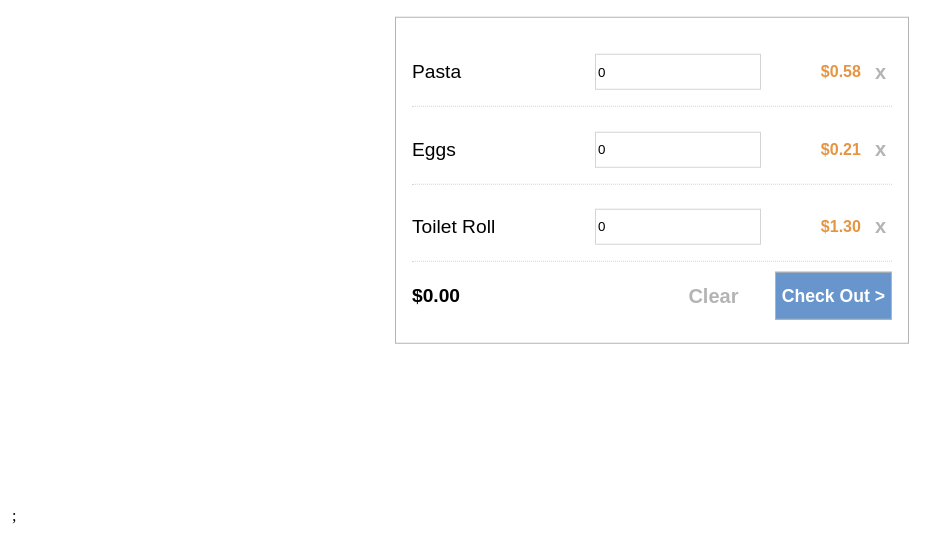
Test: <Cart /> › correctly updates when clear button clicked
Replace the text in the number field next to "$0.58" with "1" at [678, 72], box [595,54,761,90]
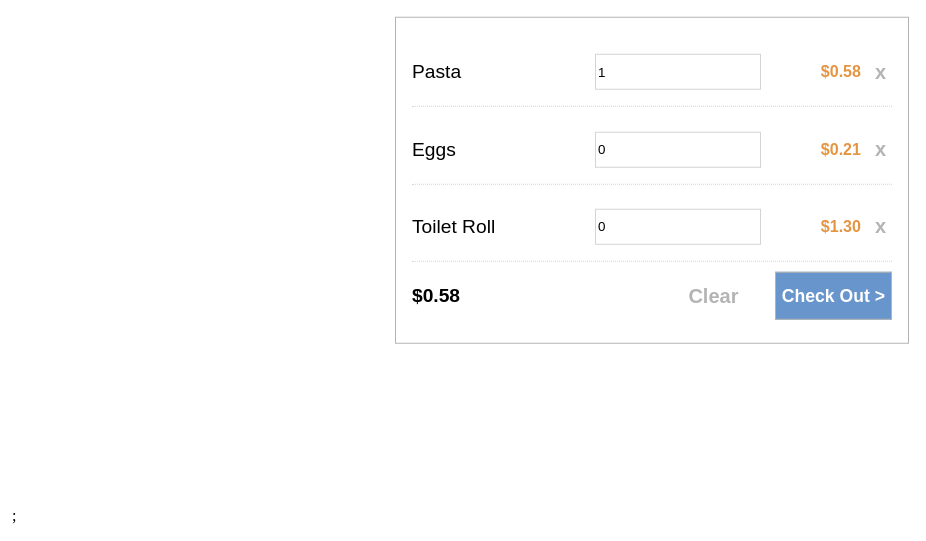
Replace the text in the number field next to "$0.21" with "1" at [678, 149], box [595,131,761,167]
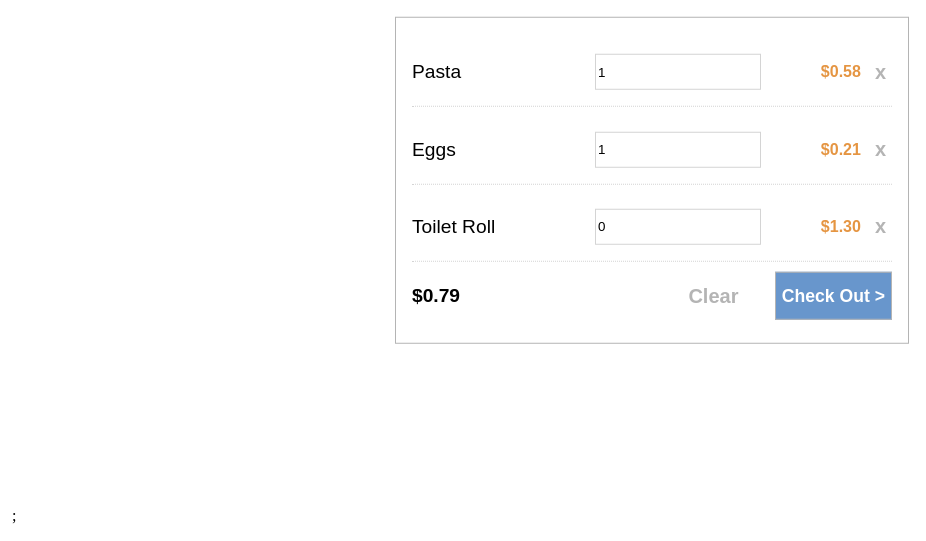
Replace the text in the number field next to "$1.30" with "1" at [678, 227], box [595,209,761,245]
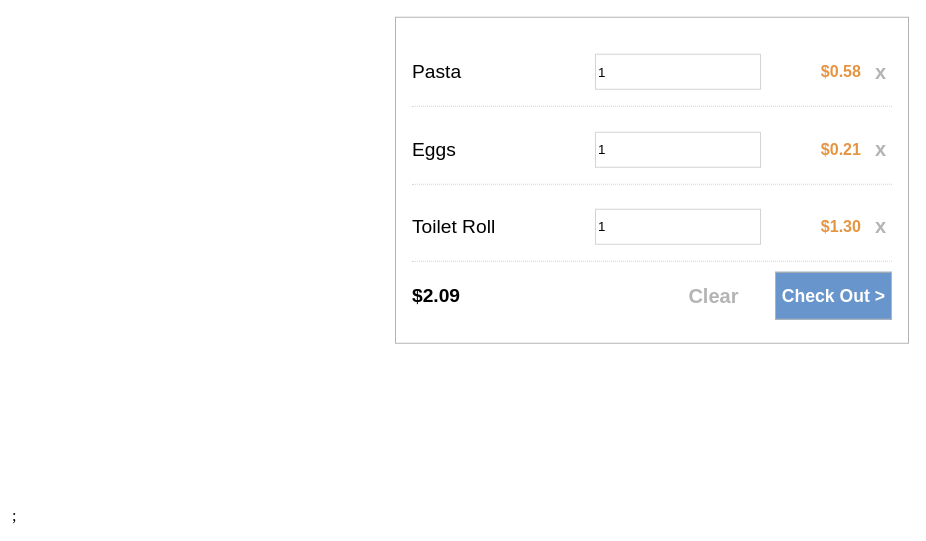
Result: the text with test id "cartTotal" reads "$2.09" at [412,285,460,306]
Click the button with test id "clearButton" at [713, 296], box [682,284,744,309]
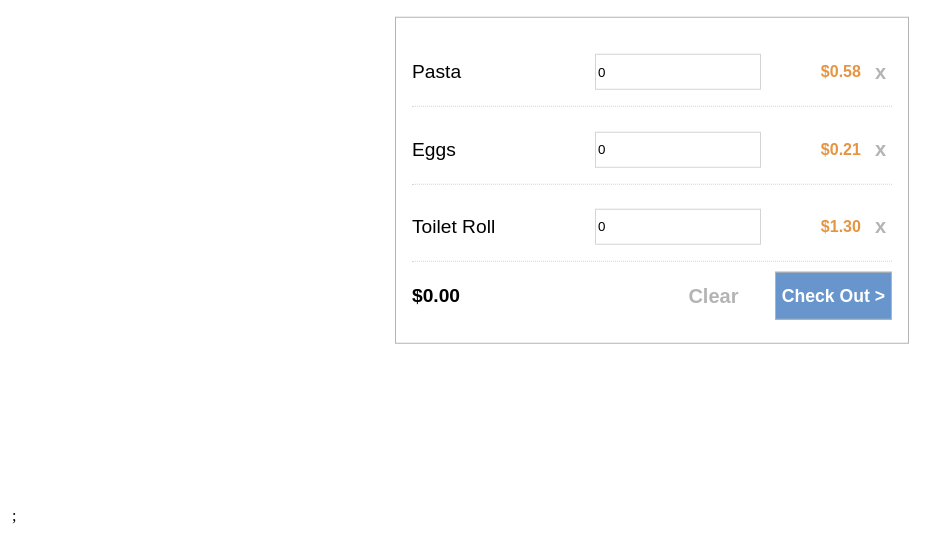
Result: the number field next to "$0.58" holds "0" at [595,54,761,90]
Result: the number field next to "$0.21" holds "0" at [595,131,761,167]
Result: the number field next to "$1.30" holds "0" at [595,209,761,245]
